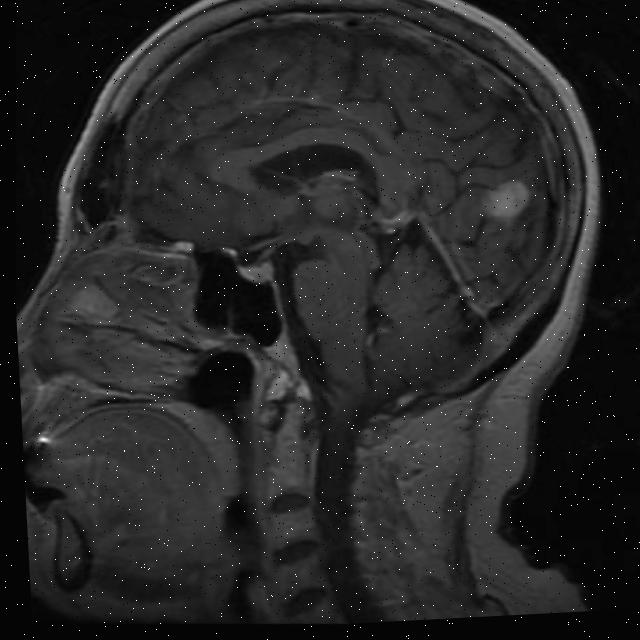Meningioma: (478, 177, 532, 223)
Pituitary: (232, 259, 278, 288)
